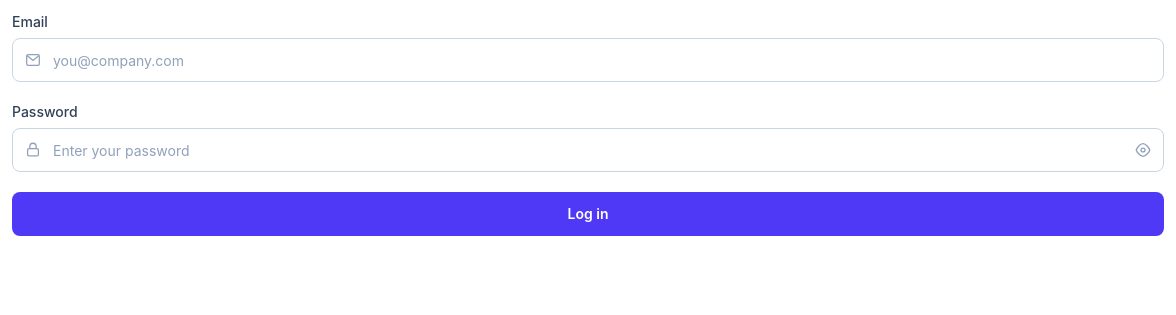
Test: LoginForm › shows a generic error on failure, never revealing which field was wrong (US-002)
This screenshot has width=1176, height=315.
In the field labelled "Email": (588, 60) [12,38,1164,82], type "a@example.com"
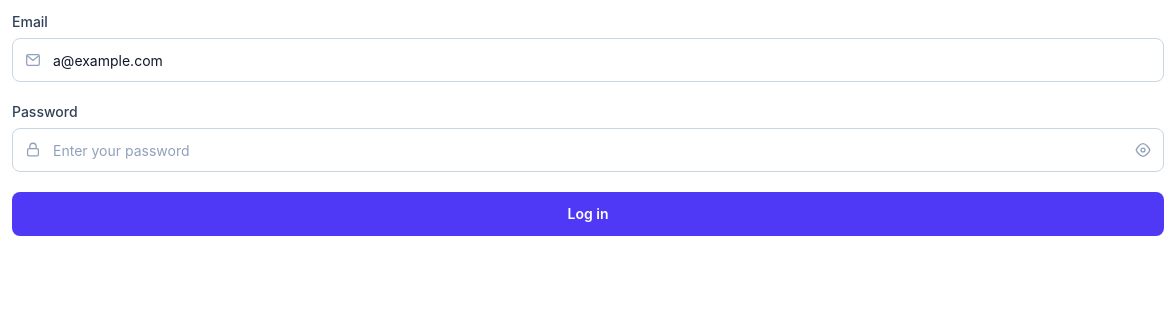
In the password field labelled "Password": (588, 150) [12,128,1164,172], type "wrong"
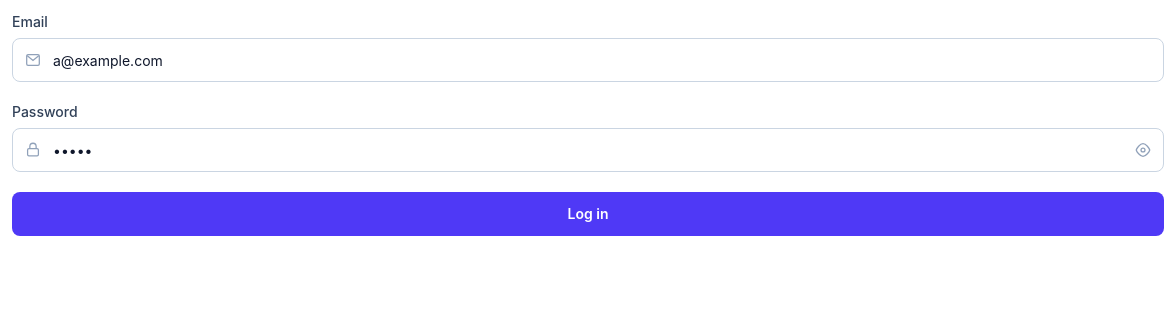
Click the button "Log in": (588, 214) [12,192,1164,236]
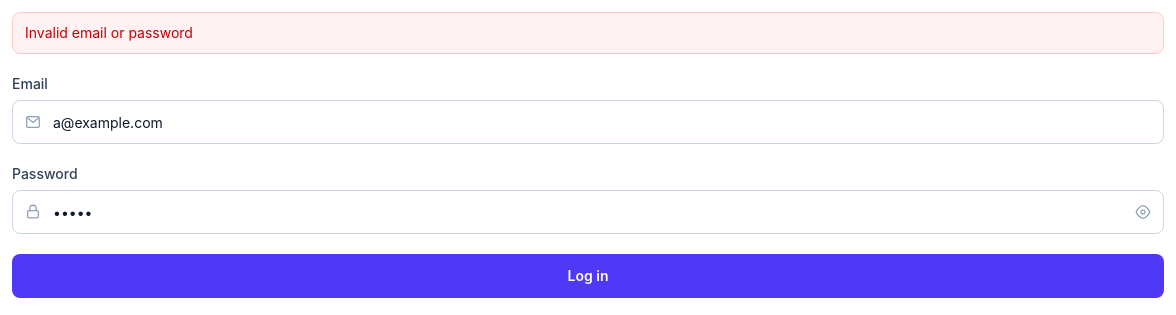
Now the message reads "Invalid email or password", box [25,24,193,41]
